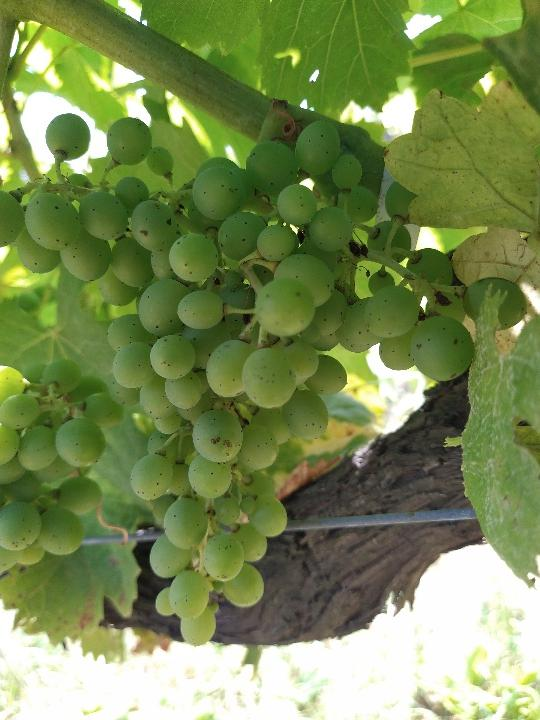grape: (4, 111, 531, 648)
